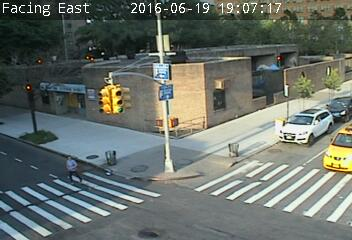neg: (184, 32, 208, 63), (297, 47, 320, 78), (229, 70, 249, 97), (197, 104, 214, 127), (150, 115, 163, 132)
pos: (60, 151, 84, 183)
